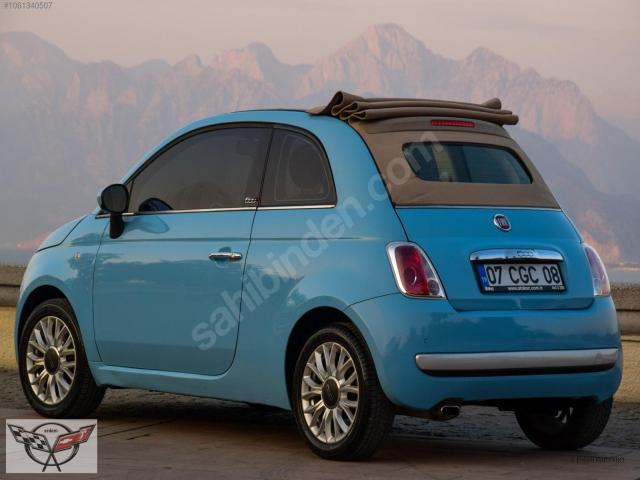plaka: (477, 263, 565, 292)
